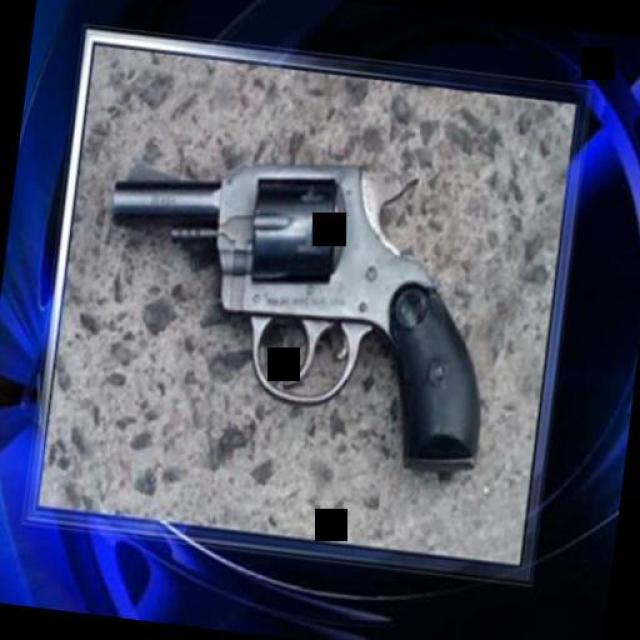gun: (80, 130, 514, 471)
